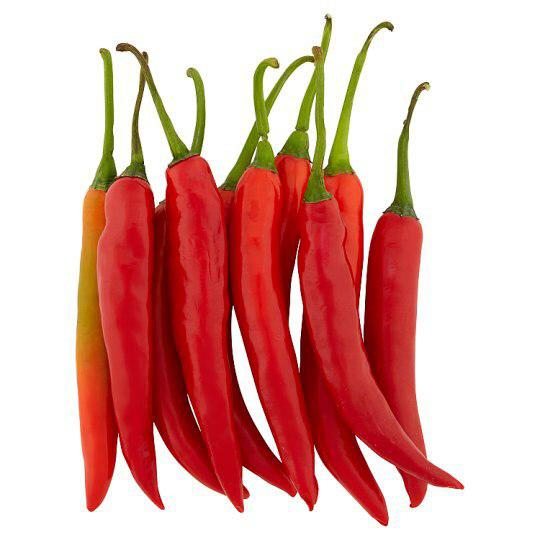lada merah: (297, 191, 452, 492), (156, 147, 261, 518), (232, 160, 321, 510), (92, 163, 163, 519), (364, 203, 441, 505)
